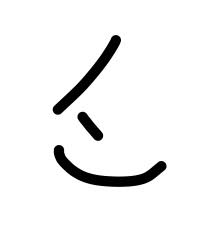t: (45, 24, 126, 119)
